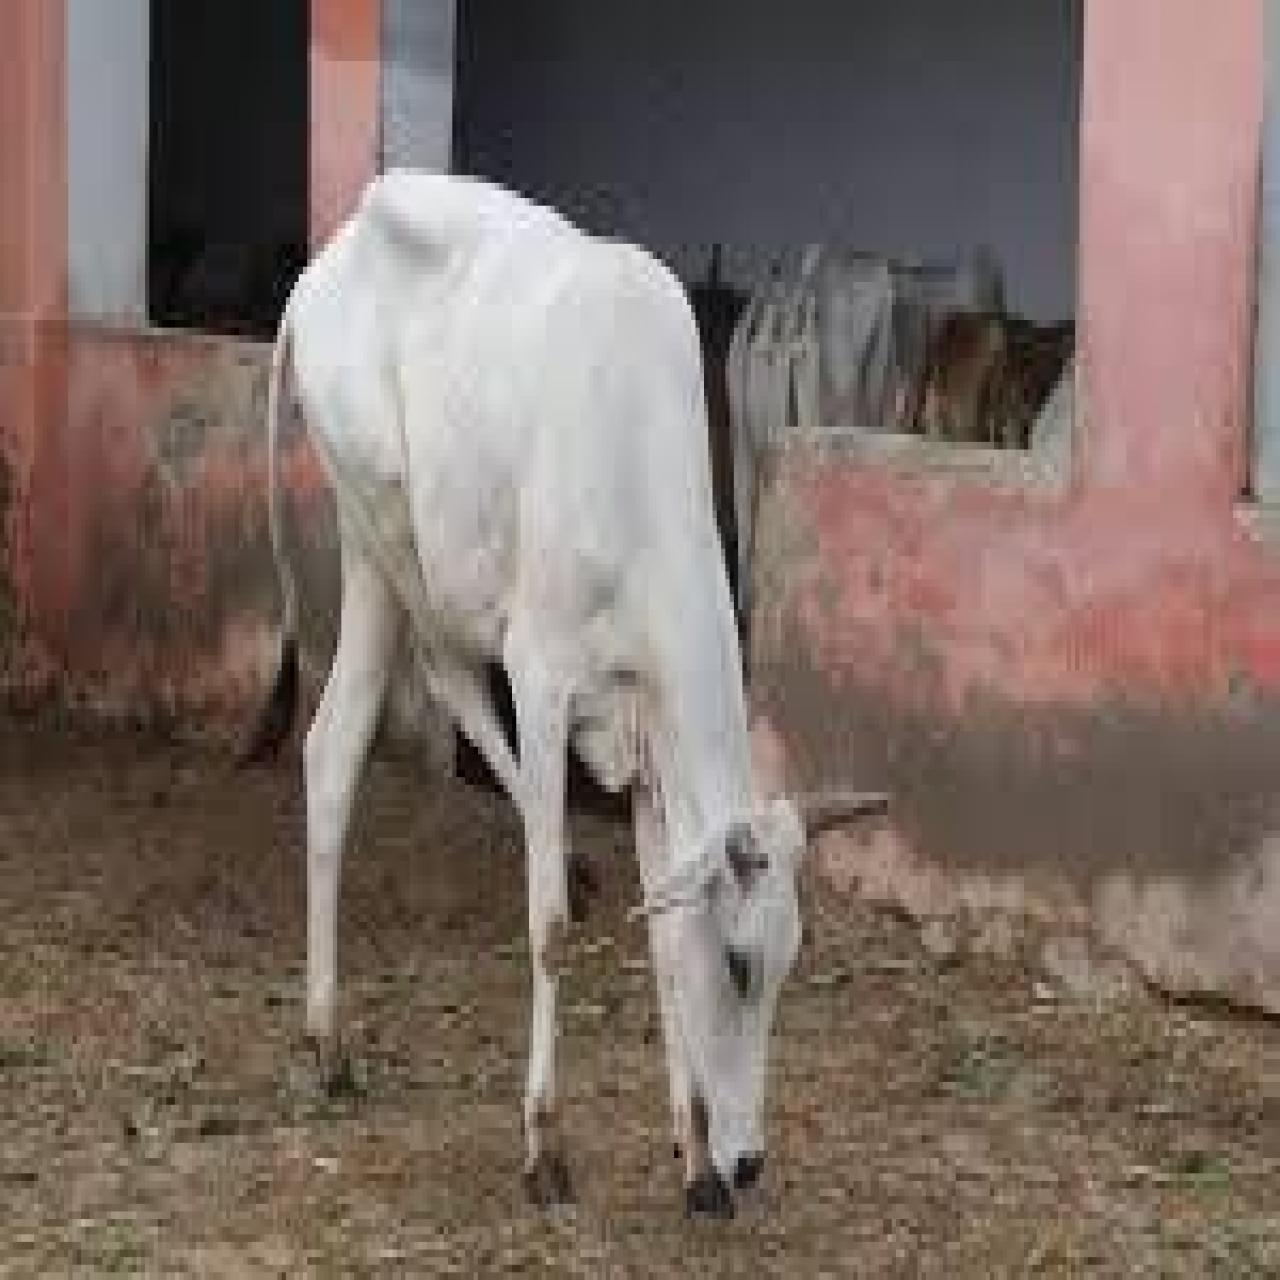cow: (263, 168, 893, 1219)
